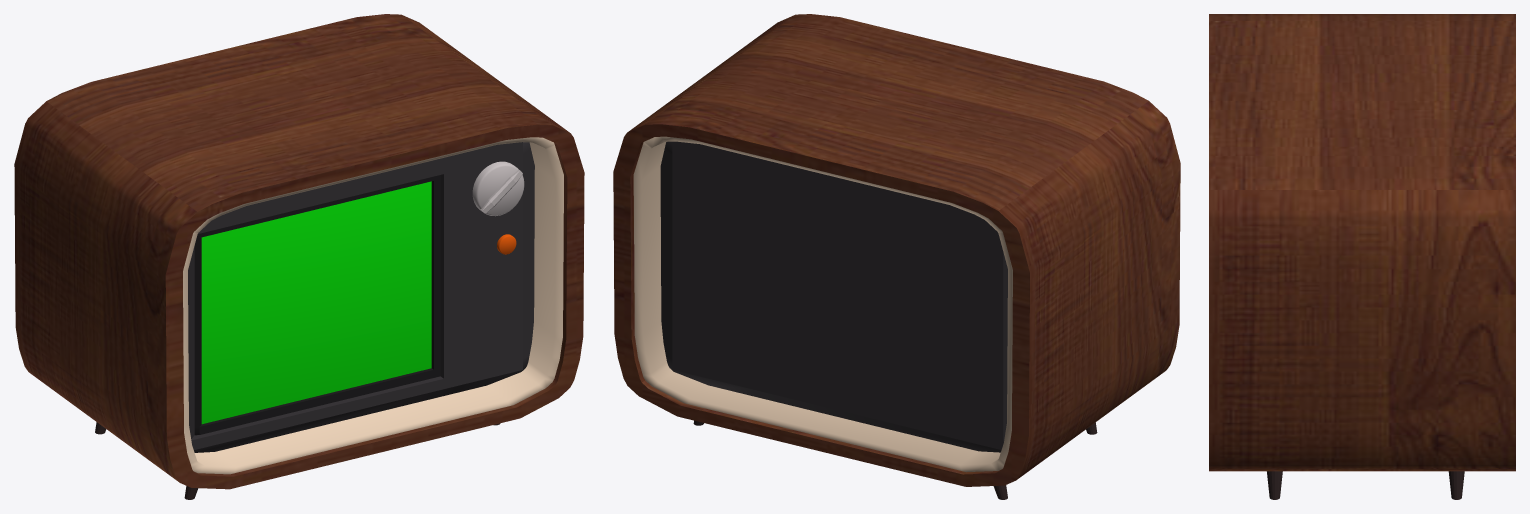
3 views of the same model, side by side, from view 1: azimuth 30°, elevation 25°; view 2: azimuth 150°, elevation 25°; view 3: azimuth 270°, elevation 25° (orthographic).
Parts seen in each view (by area): view 1: TVFrame, TVScreen, TVInside, TVFrameInside, TVInsideInside, TVButton1; view 2: TVFrame, TVInside, TVFrameInside; view 3: TVFrame, Leg.002, Leg.003.
Part boxes in pixels (left/top/right/bottom): TVFrame: left=14, top=14, right=584, bottom=489; TVScreen: left=201, top=181, right=431, bottom=424; TVInside: left=188, top=142, right=534, bottom=452; TVFrameInside: left=183, top=137, right=563, bottom=474; TVInsideInside: left=194, top=175, right=440, bottom=435; TVButton1: left=472, top=161, right=524, bottom=216; TVFrame: left=613, top=14, right=1180, bottom=486; TVInside: left=660, top=141, right=1007, bottom=452; TVFrameInside: left=633, top=136, right=1012, bottom=472; TVFrame: left=1209, top=14, right=1515, bottom=471; Leg.002: left=1448, top=471, right=1464, bottom=499; Leg.003: left=1267, top=471, right=1282, bottom=499.
Size of the model in its own units: 320 by 236 by 200.
8 materials, 1 textured.
